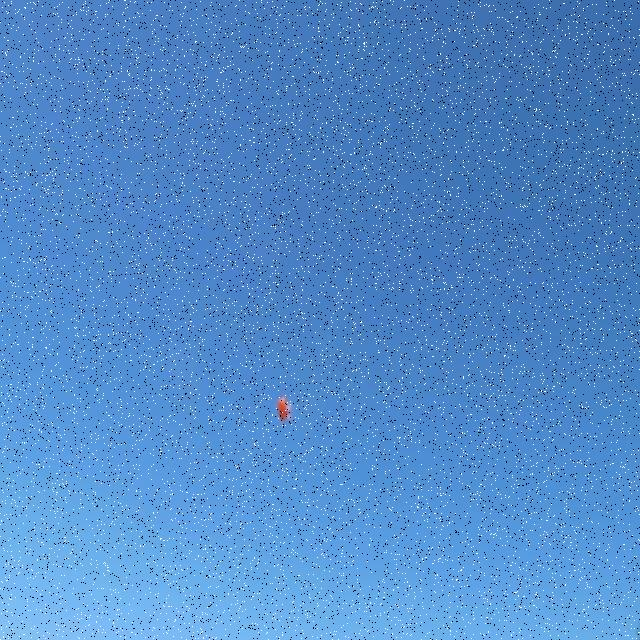UAV: (278, 397, 290, 423)
